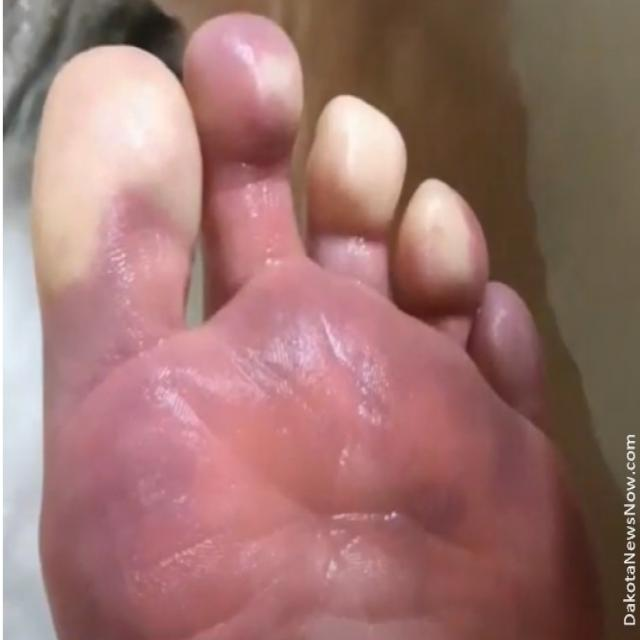raynauds: (24, 45, 200, 367), (304, 83, 400, 322), (408, 160, 474, 372)
